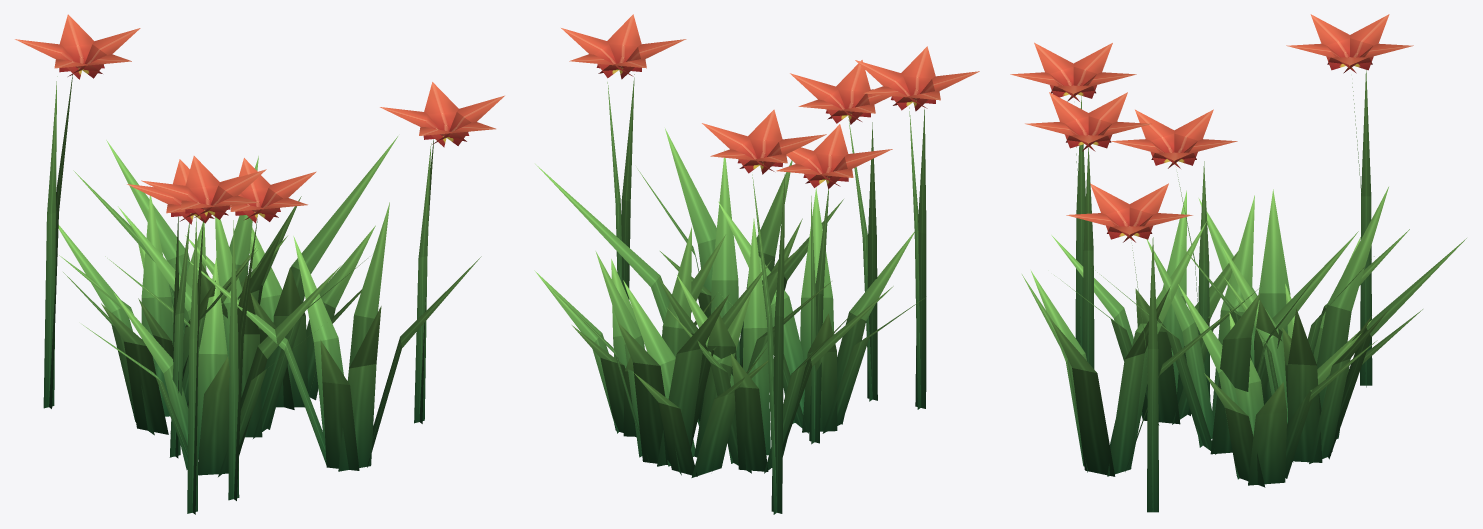
The model's file is cover_grass.glb.
3 renders of one model, left to right at view 1: azimuth 30°, elevation 25°; view 2: azimuth 150°, elevation 25°; view 3: azimuth 270°, elevation 25°, orthographic.
Parts seen in each view (by area): view 1: cover_grass_leaves; view 2: cover_grass_leaves; view 3: cover_grass_leaves.
Boxes of the visible parts, x1,y1,x2,y2 form: cover_grass_leaves: (15, 14, 504, 514); cover_grass_leaves: (534, 14, 979, 514); cover_grass_leaves: (1010, 14, 1466, 512).
Bounding box in the file's own units: 0.7449 × 0.6502 × 0.7498.
Materials: 1 (1 with a texture image).
